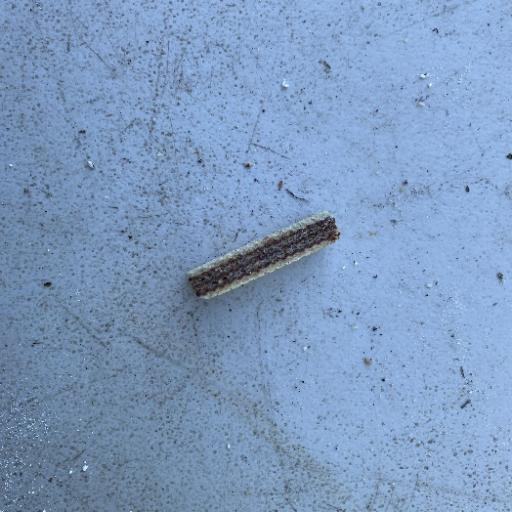Waste: (185, 209, 340, 301)
